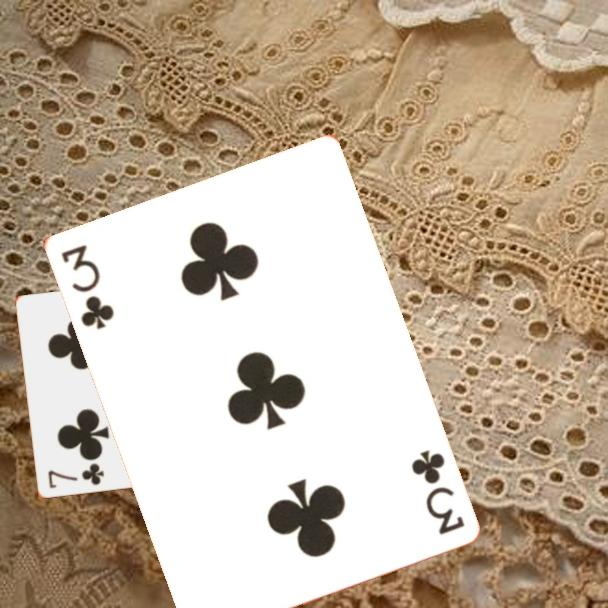c03: (57, 240, 117, 333), (407, 446, 467, 538)
c07: (44, 460, 107, 491)
